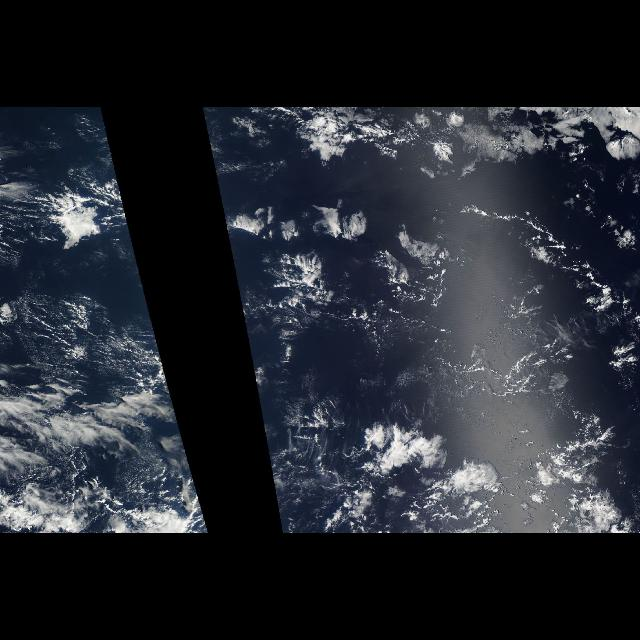Sugar: (262, 250, 622, 418)
